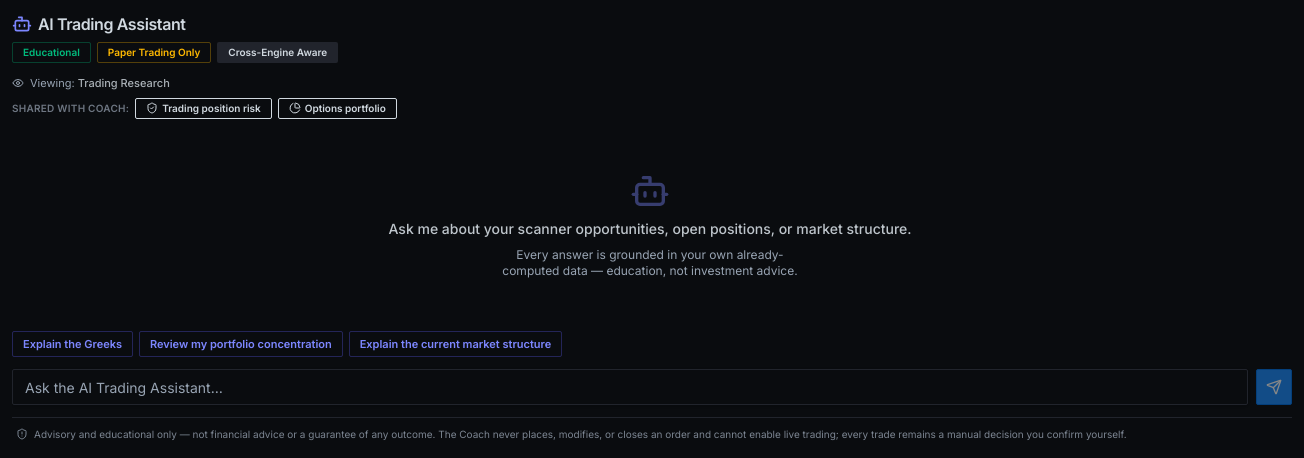
Test case: TradingCoachWorkspace — streaming, loading, error/retry, and stop › shows an honest error state with a Retry button on a genuine mid-stream failure
Type "What are the key risks?" into the field with test id "input-trading-coach-composer".
click(630, 387); type("What are the key risks?")  # box [12,369,1248,405]
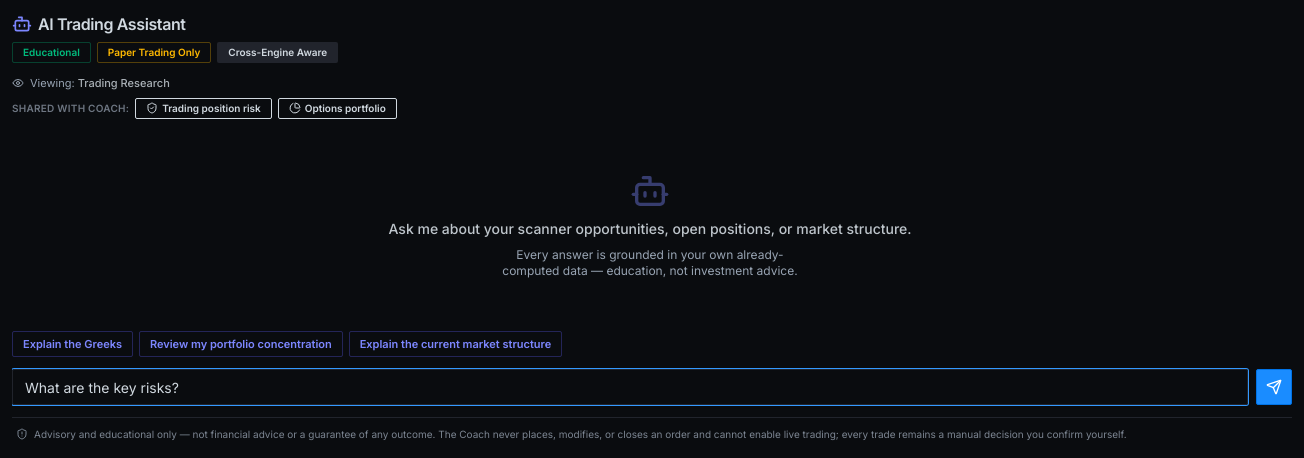
Click the button with test id "button-trading-coach-send".
click(1274, 387)  # box [1256,369,1292,405]
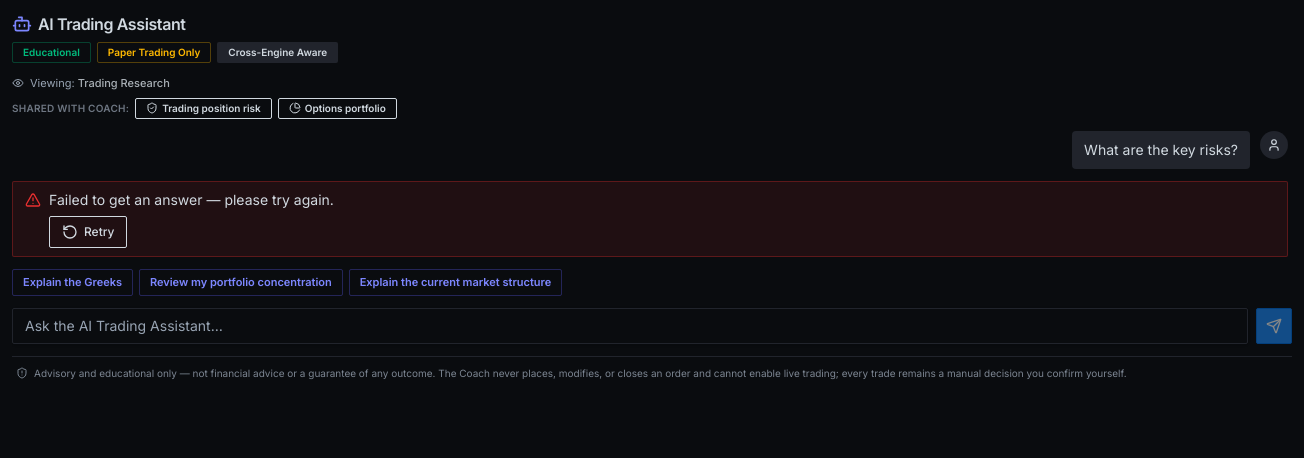
Check: the field with test id "input-trading-coach-composer" is enabled, box [12,308,1248,344]
Check: the element with test id "trading-coach-error" shows "Failed to get an answer", box [49,191,334,208]
